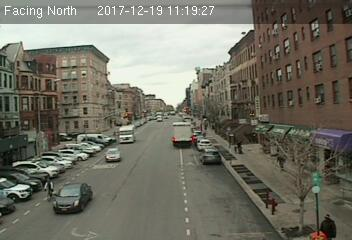bicycle: (42, 177, 56, 202)
car: (51, 182, 91, 213), (200, 149, 221, 163), (104, 146, 121, 163)
truck: (172, 122, 192, 146), (118, 125, 137, 144)
